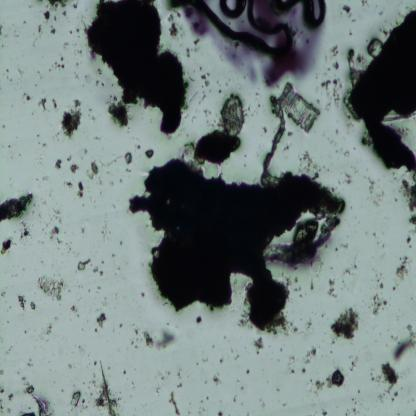Background material: (86, 0, 189, 138), (341, 6, 416, 182), (185, 92, 246, 168), (244, 272, 293, 336), (314, 172, 348, 247), (280, 83, 321, 137), (322, 44, 344, 108), (94, 359, 118, 415), (330, 305, 360, 341), (374, 363, 399, 401), (0, 195, 34, 222), (392, 324, 416, 360), (399, 176, 416, 226), (25, 384, 50, 414), (38, 275, 66, 300), (107, 100, 131, 128), (61, 111, 82, 139), (368, 180, 385, 208), (294, 312, 312, 337), (348, 49, 362, 81), (155, 330, 176, 351), (326, 368, 346, 389), (328, 125, 342, 155), (396, 256, 411, 283), (69, 57, 84, 83), (198, 105, 214, 126), (372, 295, 387, 316), (327, 276, 339, 300), (85, 160, 101, 178), (37, 323, 53, 341), (373, 273, 387, 293), (154, 370, 166, 393), (170, 389, 181, 414), (58, 240, 77, 254), (168, 13, 178, 39), (0, 238, 14, 256), (341, 260, 355, 278), (130, 328, 140, 353), (49, 58, 66, 72), (52, 206, 65, 224), (18, 224, 31, 242), (102, 213, 110, 242), (305, 345, 316, 366), (142, 331, 154, 350), (341, 172, 355, 188), (350, 353, 362, 371), (4, 65, 13, 89), (77, 259, 91, 272), (70, 390, 80, 408), (62, 177, 74, 192), (76, 180, 86, 198), (254, 338, 265, 354), (256, 393, 266, 410), (209, 373, 221, 387), (96, 312, 107, 327), (184, 43, 193, 61), (245, 102, 255, 118), (48, 227, 60, 240), (48, 128, 60, 141), (200, 72, 211, 86), (341, 146, 352, 160), (80, 395, 88, 414), (0, 386, 5, 416), (48, 0, 69, 7), (288, 356, 296, 374), (234, 316, 246, 328), (91, 264, 103, 276), (18, 294, 26, 312), (253, 92, 261, 110), (237, 378, 247, 392), (315, 378, 325, 392), (69, 162, 80, 174), (53, 159, 64, 171), (0, 22, 6, 43), (71, 96, 82, 107), (219, 332, 230, 343), (64, 358, 74, 370), (50, 97, 58, 112), (144, 147, 154, 159), (97, 296, 107, 308), (28, 299, 37, 312), (40, 99, 49, 112), (368, 366, 375, 382), (4, 346, 15, 356), (93, 78, 104, 88), (94, 64, 103, 76), (43, 9, 52, 21), (320, 308, 329, 320), (194, 314, 203, 326), (124, 152, 133, 164), (287, 125, 295, 138), (197, 403, 205, 416), (192, 37, 198, 54), (22, 92, 32, 102), (176, 367, 185, 378), (71, 306, 80, 317), (42, 172, 50, 184), (16, 66, 24, 78), (351, 404, 359, 416), (353, 396, 363, 405), (233, 389, 239, 404), (74, 46, 82, 57), (300, 365, 308, 376), (0, 287, 7, 299), (20, 16, 30, 24), (360, 0, 368, 9), (343, 5, 352, 13), (34, 157, 43, 165), (121, 366, 127, 378), (132, 142, 140, 151), (118, 322, 129, 328), (83, 145, 89, 156), (408, 236, 413, 249), (59, 40, 67, 48), (71, 1, 79, 9), (64, 153, 72, 161), (92, 326, 100, 334), (282, 144, 290, 152), (345, 407, 352, 416), (38, 22, 42, 37), (62, 8, 68, 18), (4, 404, 10, 414), (28, 357, 34, 367), (109, 252, 116, 260), (125, 166, 132, 174), (175, 382, 184, 388), (21, 374, 27, 383), (216, 410, 225, 416), (216, 87, 223, 94), (274, 385, 281, 392), (96, 178, 104, 184), (244, 368, 250, 376), (140, 290, 146, 298), (8, 392, 12, 404), (323, 407, 328, 416), (52, 27, 57, 36), (109, 180, 115, 187), (35, 0, 45, 4), (81, 225, 85, 234), (68, 30, 74, 36), (0, 370, 5, 377), (244, 412, 252, 416), (200, 397, 204, 405), (230, 346, 235, 352), (96, 285, 101, 291), (357, 388, 362, 394), (218, 357, 222, 364), (75, 27, 79, 34), (206, 395, 210, 402), (235, 354, 240, 359), (1, 124, 5, 130), (119, 240, 123, 246), (88, 286, 91, 294), (53, 16, 58, 20), (42, 144, 47, 148), (119, 177, 123, 182), (329, 349, 333, 354), (280, 346, 283, 352), (265, 130, 269, 134), (36, 133, 40, 137), (7, 144, 11, 148), (283, 404, 287, 406)
Cellulose filter fibre: (261, 96, 285, 182)
Fragment: (136, 157, 316, 308)
Pen: (173, 0, 327, 88)
